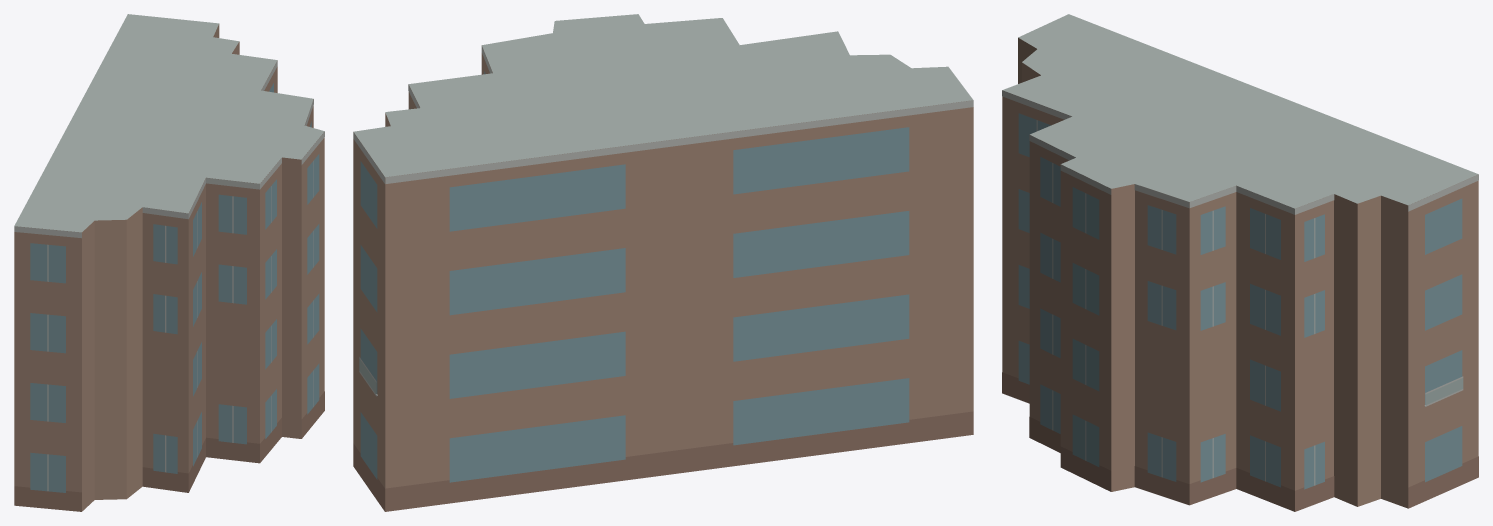
File: survey-upis-32578675.glb
The picture shows the model from 3 angles, left to right: view 1: azimuth 30°, elevation 25°; view 2: azimuth 150°, elevation 25°; view 3: azimuth 270°, elevation 25°; orthographic projection. The views are drawn at different scales.
Parts seen in each view (by area): view 1: survey-upis-32578675.tmp; view 2: survey-upis-32578675.tmp; view 3: survey-upis-32578675.tmp.
Boxes of the visible parts, <box> form: survey-upis-32578675.tmp: <box>14,14,324,511</box>; survey-upis-32578675.tmp: <box>353,14,973,511</box>; survey-upis-32578675.tmp: <box>1002,14,1478,511</box>.
Size of the model in its own units: 16.25 by 11.8 by 16.81.
